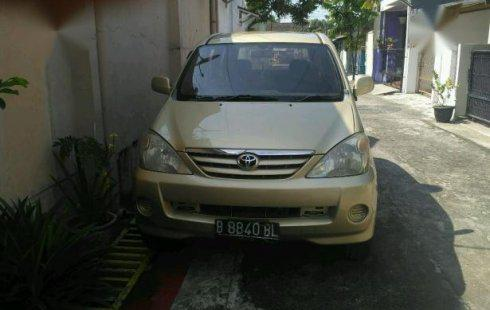plate: (214, 217, 281, 248)
